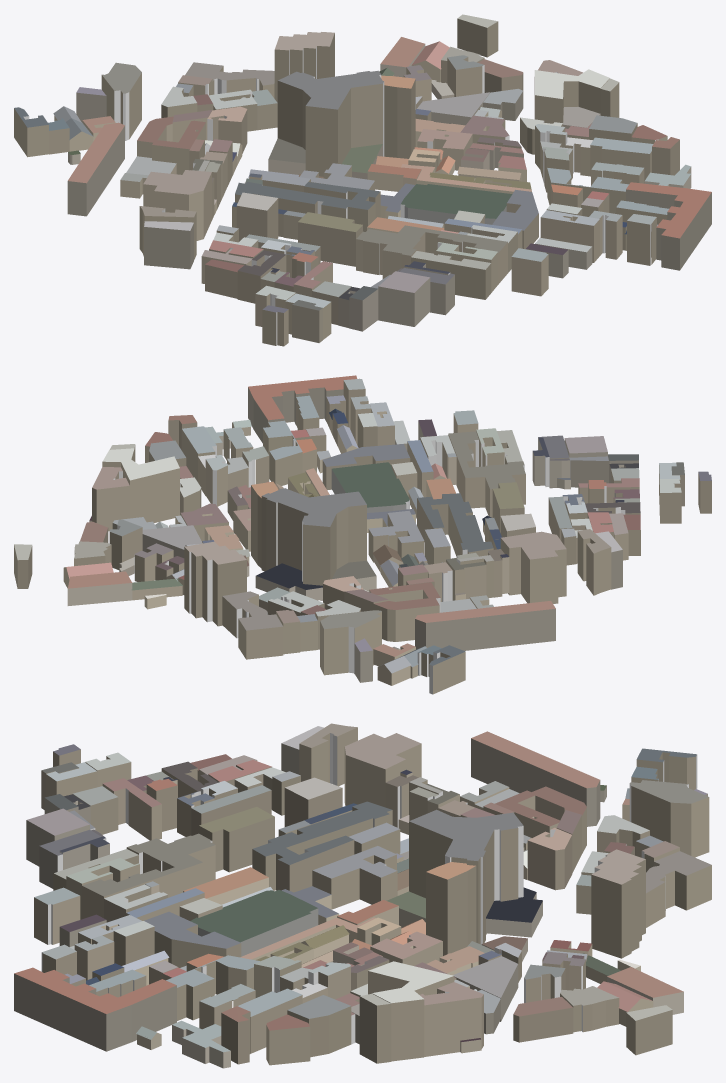
3 views of the same model, one above another, from view 1: azimuth 30°, elevation 25°; view 2: azimuth 150°, elevation 25°; view 3: azimuth 270°, elevation 25° (orthographic). The views are drawn at different scales.
Parts seen in each view (by area): view 1: tuile; view 2: tuile; view 3: tuile.
Boxes of the visible parts, <box> form: tuile: <box>14,14,711,346</box>; tuile: <box>14,375,711,694</box>; tuile: <box>14,723,711,1068</box>.
Size of the model in its own units: 269 by 39.95 by 274.
